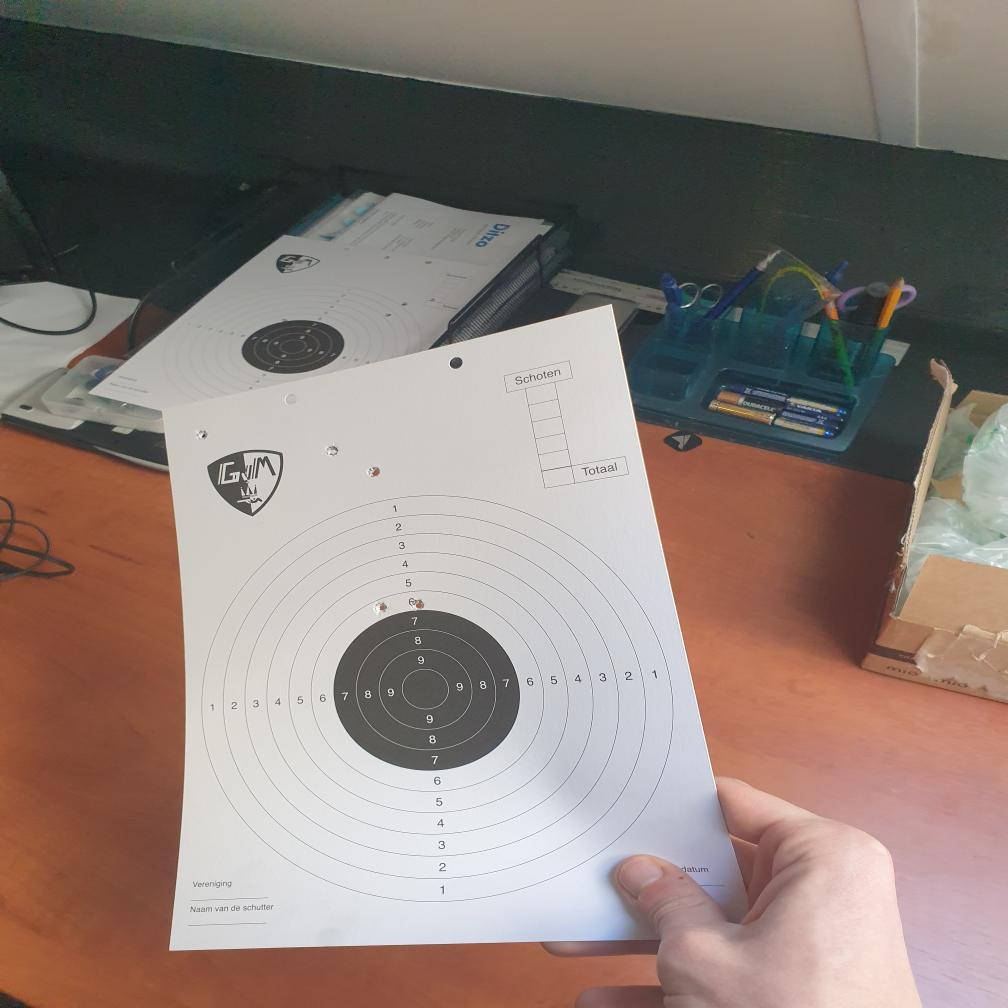0: (364, 464, 382, 479), (324, 442, 340, 457), (195, 430, 209, 440)
6: (371, 600, 390, 614), (408, 598, 426, 611)
Target: (199, 494, 678, 902)
black_contour: (332, 611, 521, 769)
